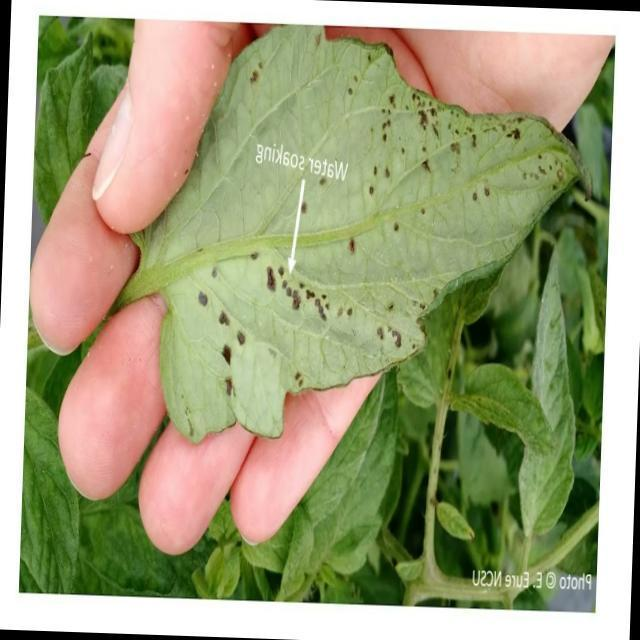Bacterial Spot: (184, 136, 422, 375), (350, 110, 542, 218)
Healthy Leaf: (516, 246, 584, 542), (450, 348, 560, 464), (18, 384, 76, 592)
